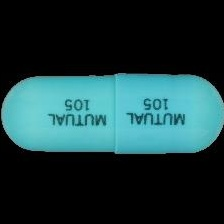75921-119: (0, 0, 224, 224)
